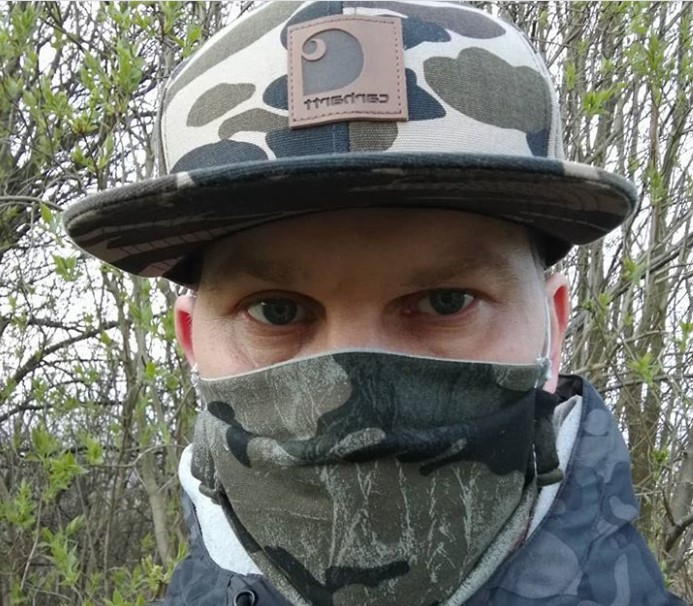face_with_mask: (61, 5, 641, 605)
